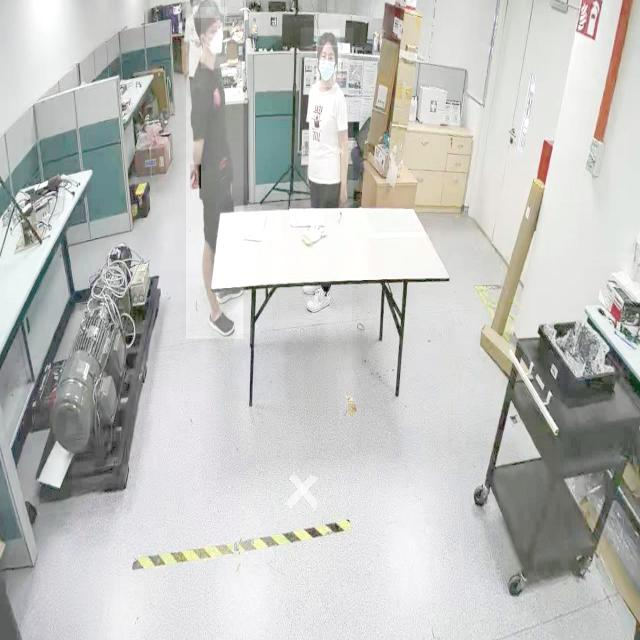face_mask: (201, 7, 227, 69), (316, 45, 342, 88)
hand_noglove: (189, 164, 201, 190), (338, 183, 349, 209)
head_nohelmet: (192, 0, 220, 19), (316, 29, 340, 48)
person: (186, 0, 243, 340), (300, 28, 354, 214)
shoes: (207, 302, 240, 338), (305, 286, 335, 318)
